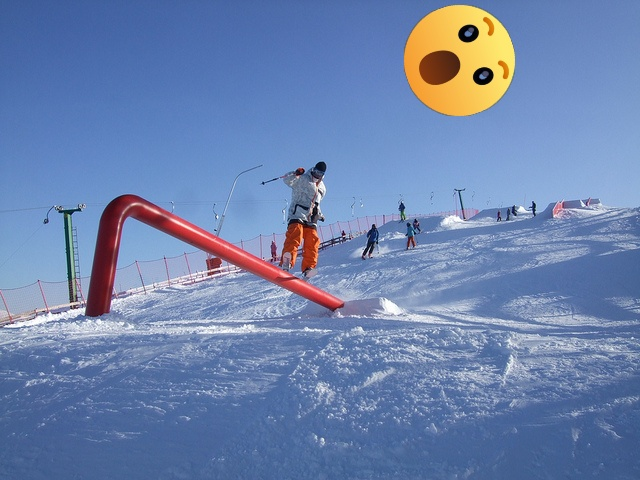wow: (404, 5, 515, 116)
